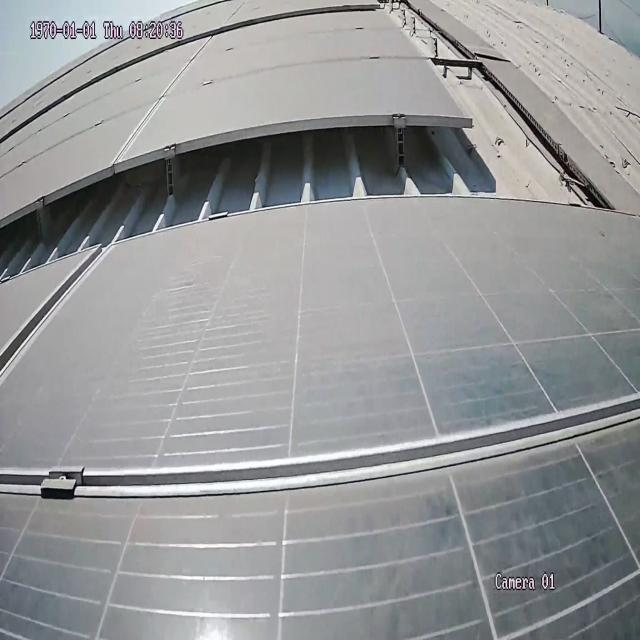interior panel: (0, 362, 640, 516), (104, 25, 232, 167), (0, 241, 118, 395)
outher panel: (0, 0, 640, 285)
